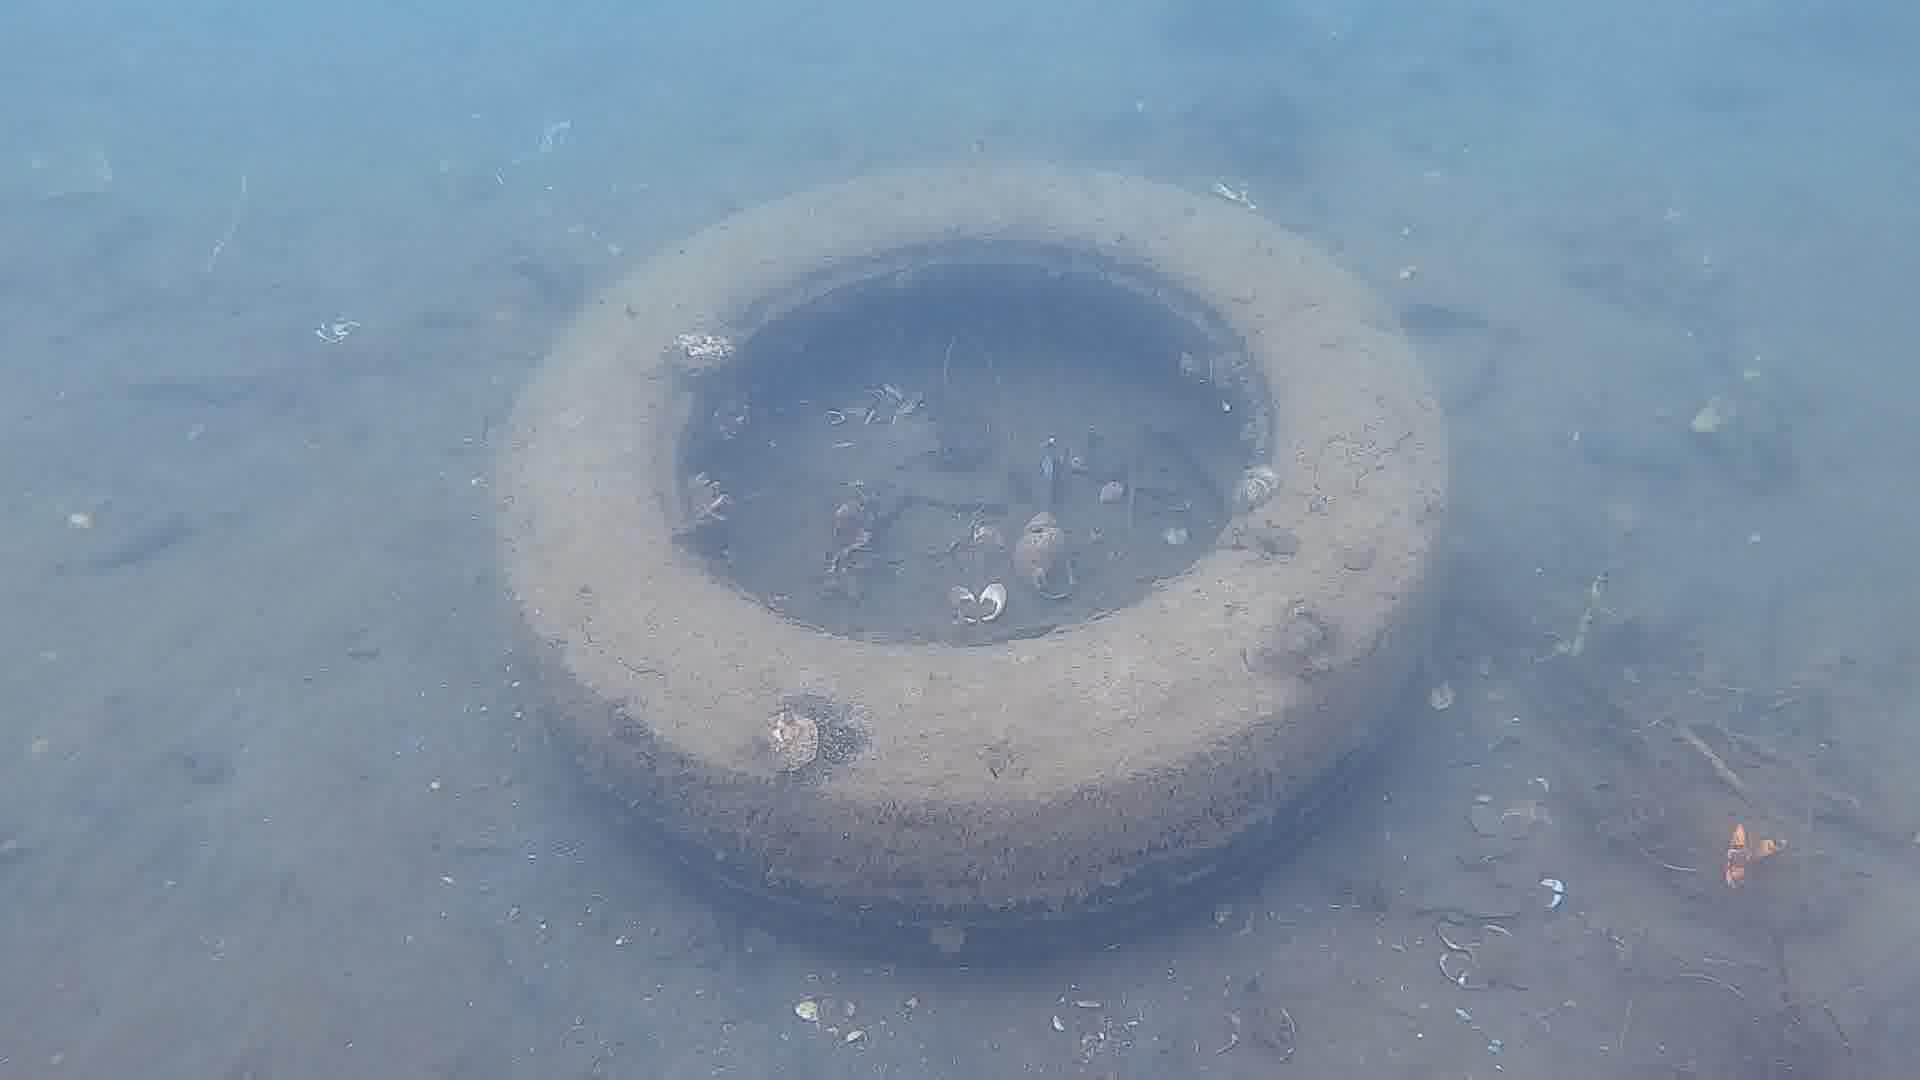tire: (489, 153, 1458, 967)
